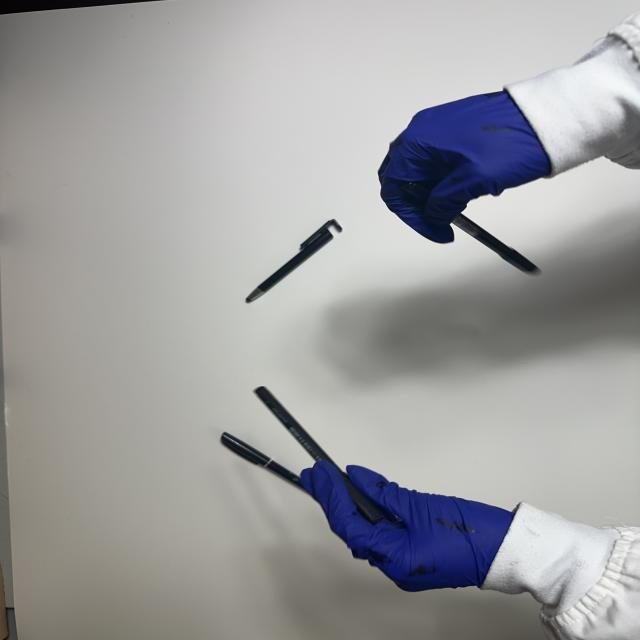gloves_contaminated: (301, 462, 514, 591), (379, 91, 551, 243)
